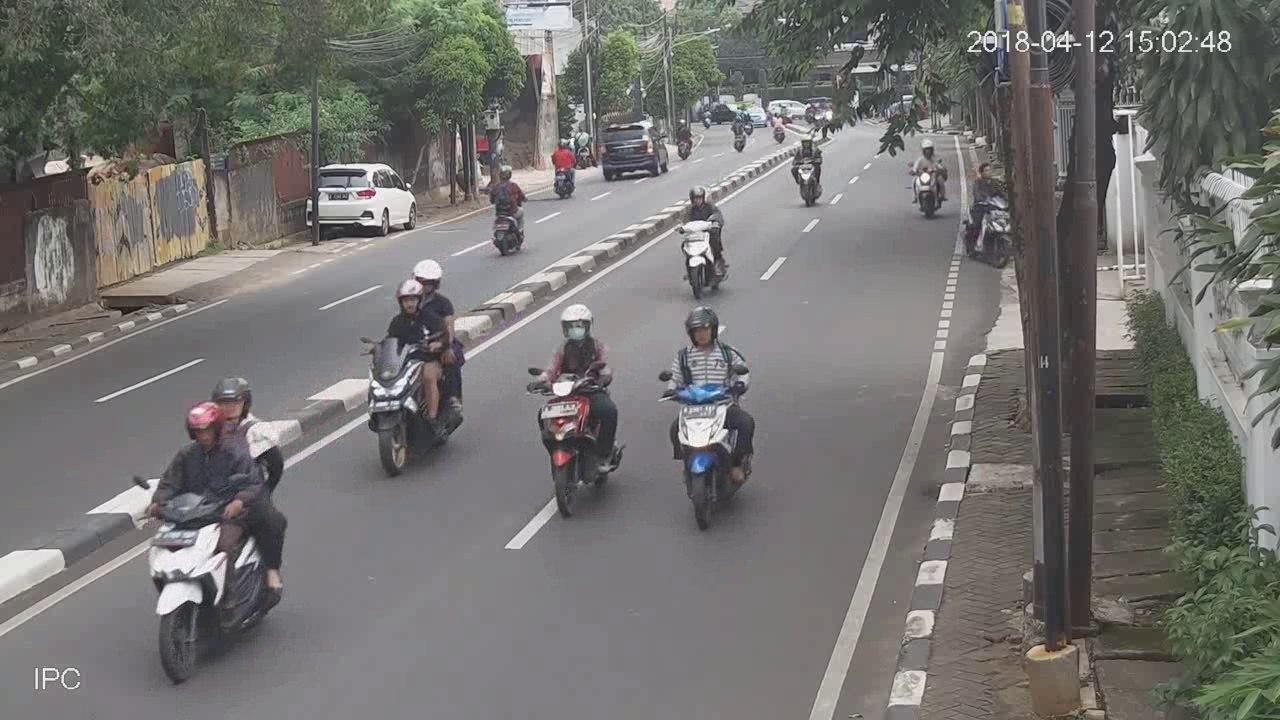car: (305, 158, 420, 241), (593, 112, 673, 181)
motorcycle: (141, 373, 297, 689), (354, 259, 472, 477), (523, 296, 630, 520), (661, 303, 760, 530), (674, 178, 731, 301), (962, 155, 1016, 266), (488, 162, 530, 258), (787, 130, 830, 209), (908, 134, 949, 216), (549, 134, 578, 199)
